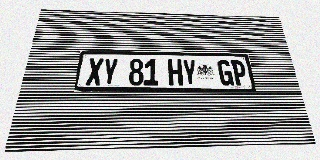1: (144, 59, 158, 85)
8: (128, 59, 144, 85)
G: (217, 60, 234, 86)
H: (168, 59, 183, 85)
P: (230, 60, 248, 86)
X: (86, 58, 104, 85)
Y: (101, 58, 118, 85), (182, 59, 198, 85)
